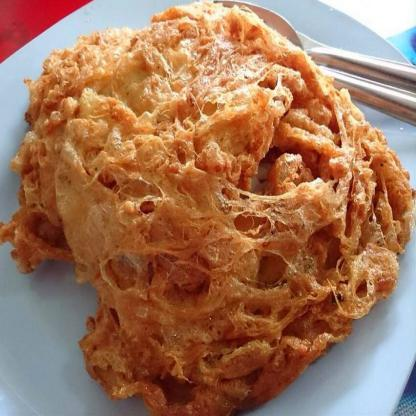Omelette: (7, 0, 411, 414)
